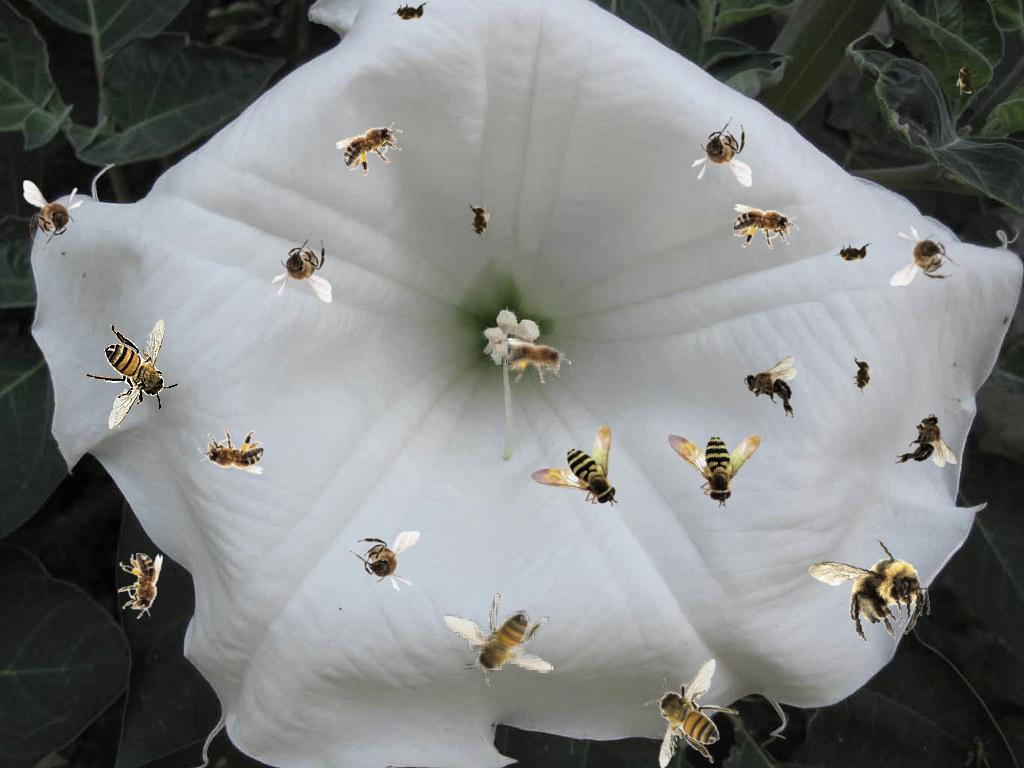Bee: (804, 527, 935, 652), (650, 393, 770, 511), (443, 592, 554, 686), (85, 319, 179, 430), (645, 658, 739, 768), (530, 425, 618, 507), (333, 109, 413, 184), (890, 225, 960, 286), (23, 180, 84, 250), (691, 117, 752, 187), (350, 531, 420, 592), (271, 233, 332, 303), (744, 356, 797, 418), (895, 414, 957, 467), (118, 553, 163, 619), (505, 338, 571, 383), (198, 429, 264, 474), (733, 204, 799, 249), (848, 353, 876, 397), (833, 242, 873, 264), (468, 201, 490, 241), (390, 1, 430, 23), (956, 59, 978, 99)
